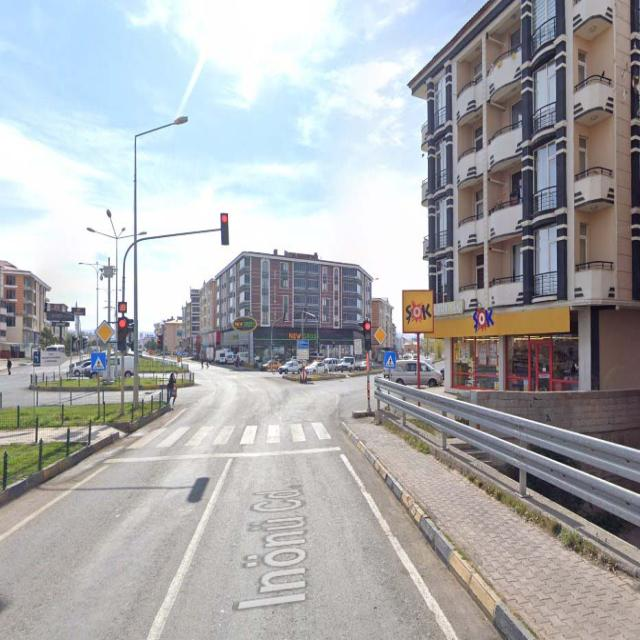kirmizi: (119, 317, 127, 352), (220, 212, 228, 243), (364, 320, 372, 350)
